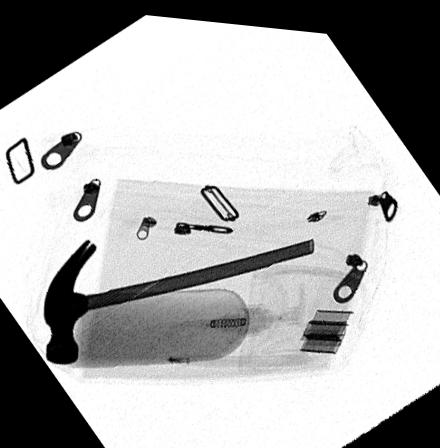Hammer: (43, 231, 315, 364)
